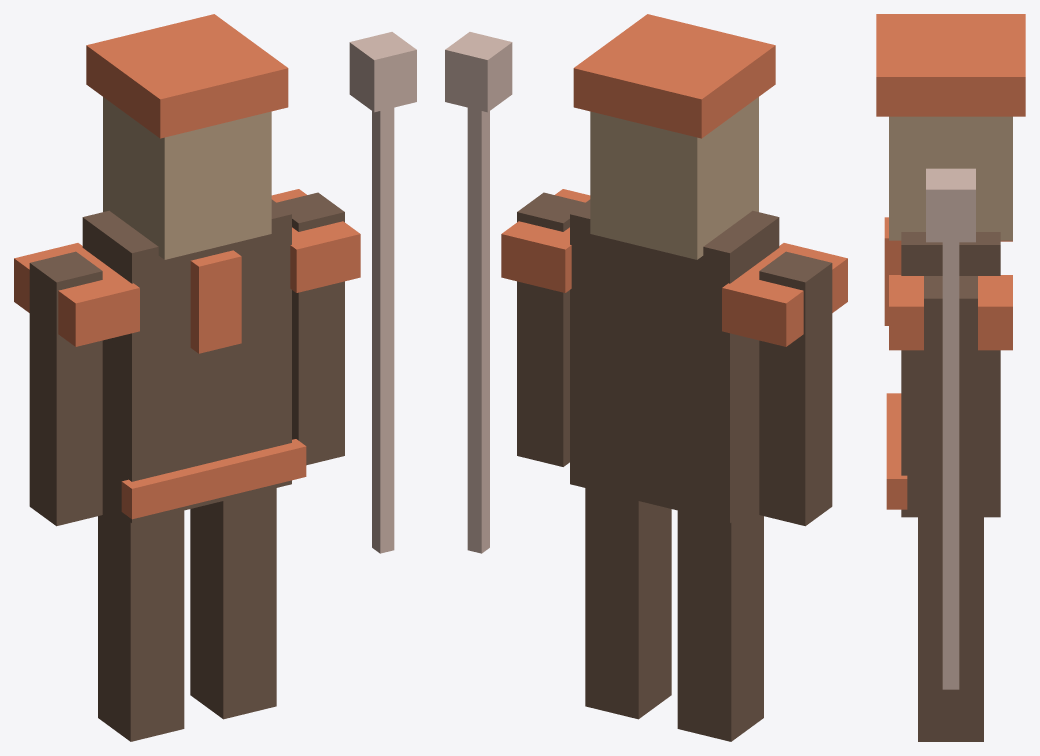
The model's file is 19_eryk_skyharrow_guide_at_glyph.glb.
3 renders of one model, left to right at view 1: azimuth 30°, elevation 25°; view 2: azimuth 150°, elevation 25°; view 3: azimuth 270°, elevation 25°, orthographic.
Visible parts, largest first — view 1: Eryk Skyharrow, Guide at Glyph; view 2: Eryk Skyharrow, Guide at Glyph; view 3: Eryk Skyharrow, Guide at Glyph.
Part boxes in pixels (box(x1,y1,x2,y2)): Eryk Skyharrow, Guide at Glyph: box(14, 14, 416, 741); Eryk Skyharrow, Guide at Glyph: box(445, 14, 847, 741); Eryk Skyharrow, Guide at Glyph: box(876, 14, 1025, 741).
Bounding box in the file's own units: 0.973 × 1.69 × 0.3451.
